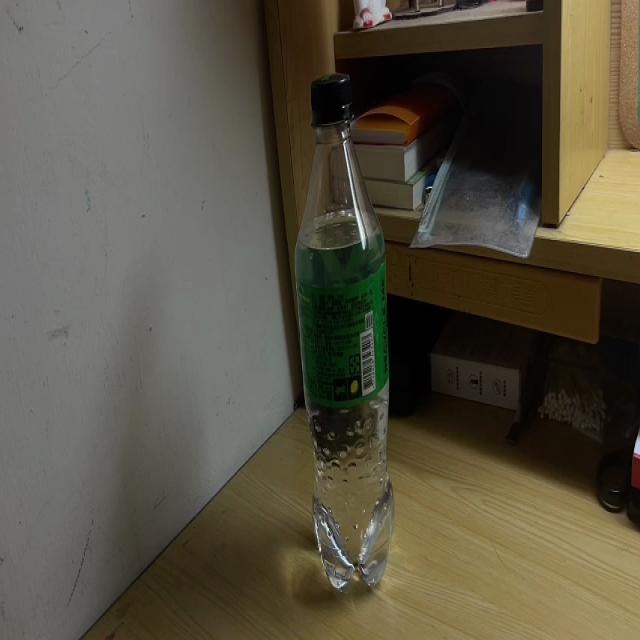Sprite: (297, 71, 394, 594)
